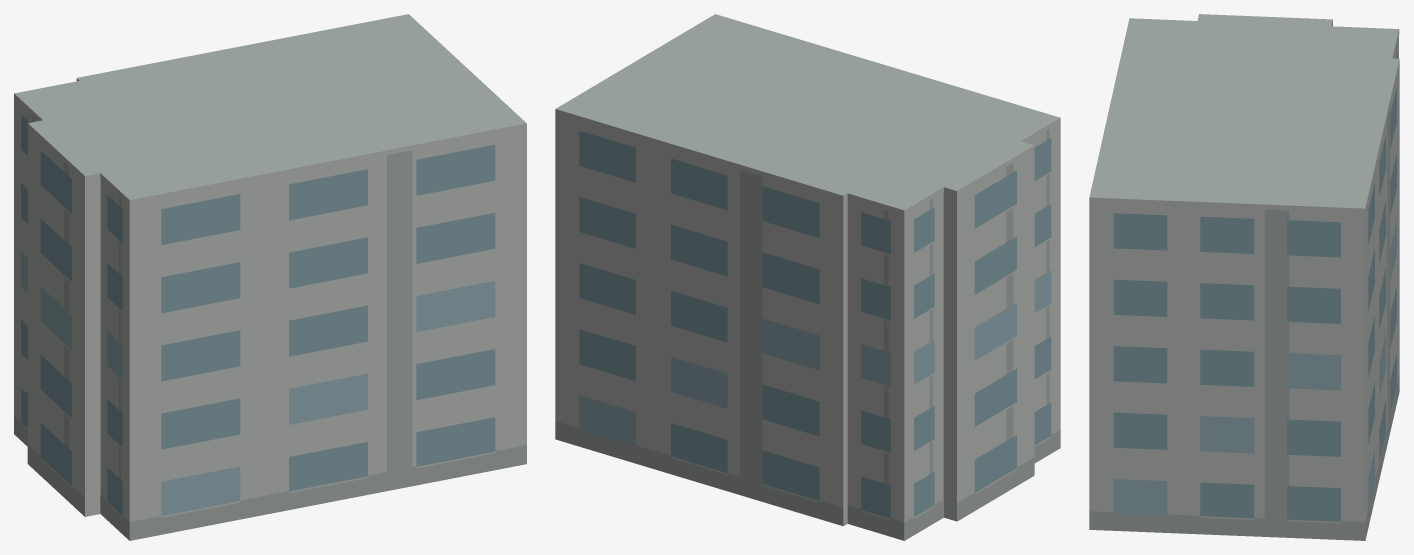
File: survey-upis-32764889.glb
3 views of the same model, side by side, from view 1: azimuth 30°, elevation 25°; view 2: azimuth 150°, elevation 25°; view 3: azimuth 270°, elevation 25° (orthographic). The views are drawn at different scales.
Parts seen in each view (by area): view 1: survey-upis-32764889.tmp; view 2: survey-upis-32764889.tmp; view 3: survey-upis-32764889.tmp.
Boxes of the visible parts, x1=… form: survey-upis-32764889.tmp: x1=14, y1=14, x2=526, y2=540; survey-upis-32764889.tmp: x1=555, y1=14, x2=1060, y2=540; survey-upis-32764889.tmp: x1=1089, y1=14, x2=1399, y2=540.
Bounding box in the file's own units: 20.35 × 16.2 × 13.72.
